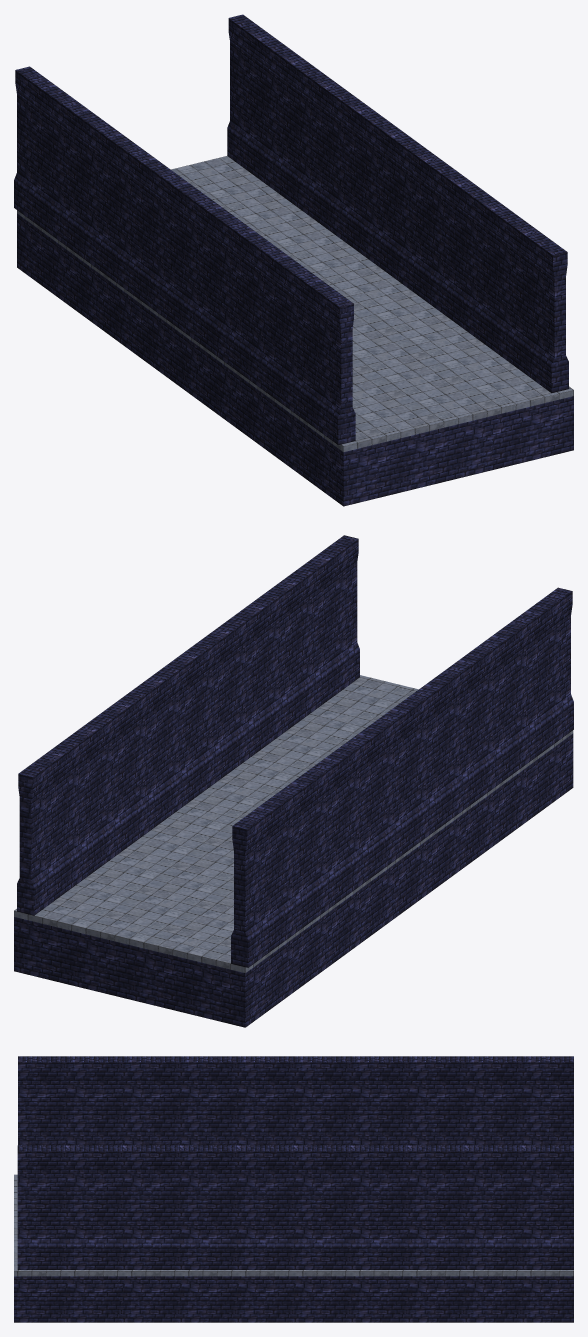
The model's file is corridor-short.glb.
The picture shows the model from 3 angles, top to bottom: view 1: azimuth 30°, elevation 25°; view 2: azimuth 150°, elevation 25°; view 3: azimuth 270°, elevation 25°; orthographic projection. The views are drawn at different scales.
Parts seen in each view (by area): view 1: wall (×2), floor (×2); view 2: wall (×2), floor (×2); view 3: wall (×2), floor (×2).
Boxes of the visible parts, box(x1,y1,x2,y2) form: wall (×2): box(14, 14, 568, 444); floor (×2): box(17, 156, 573, 506); wall (×2): box(17, 535, 573, 967); floor (×2): box(14, 675, 573, 1027); wall (×2): box(17, 1056, 573, 1269); floor (×2): box(14, 1174, 573, 1322).
Bounding box in the file's own units: 4.05 × 3.28 × 9.82.
Materials: 8 (8 with a texture image).
